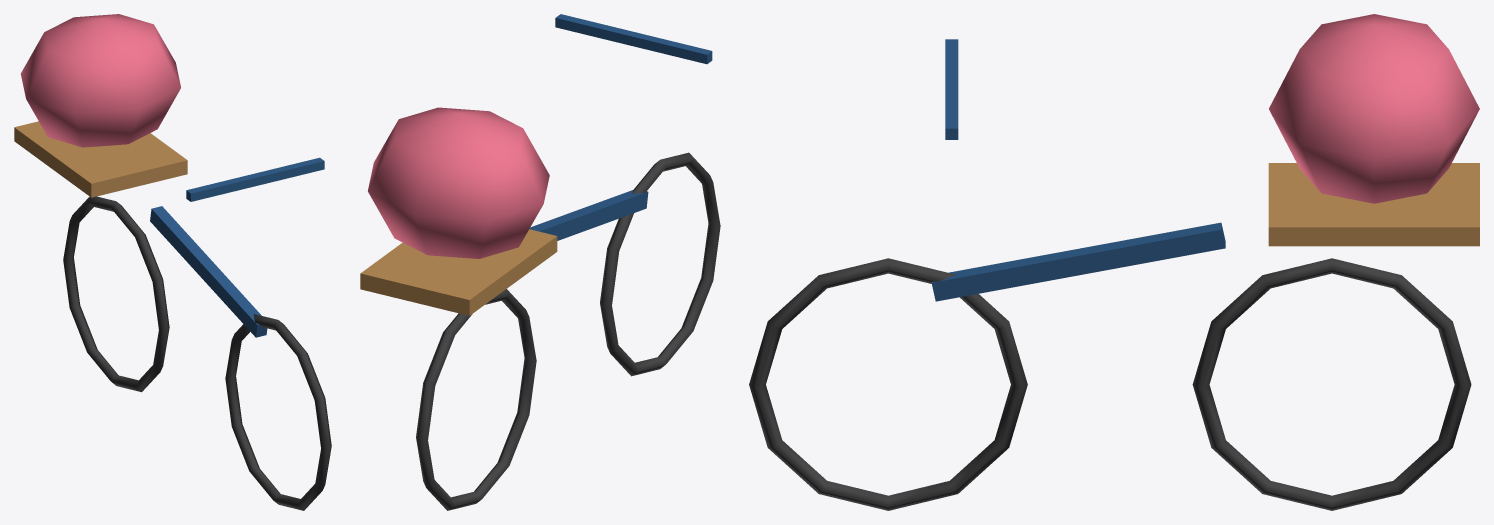
Rendered from bike_lod.glb.
The picture shows the model from 3 angles, left to right: view 1: azimuth 30°, elevation 25°; view 2: azimuth 150°, elevation 25°; view 3: azimuth 270°, elevation 25°; orthographic projection. The views are drawn at different scales.
Parts seen in each view (by area): view 1: bike_lod; view 2: bike_lod; view 3: bike_lod.
Part boxes in pixels (bbox=[...]): bike_lod: bbox=[14, 14, 331, 510]; bike_lod: bbox=[360, 14, 720, 510]; bike_lod: bbox=[749, 14, 1479, 510].
Size of the model in its own units: 0.56 by 1.27 by 1.73.
